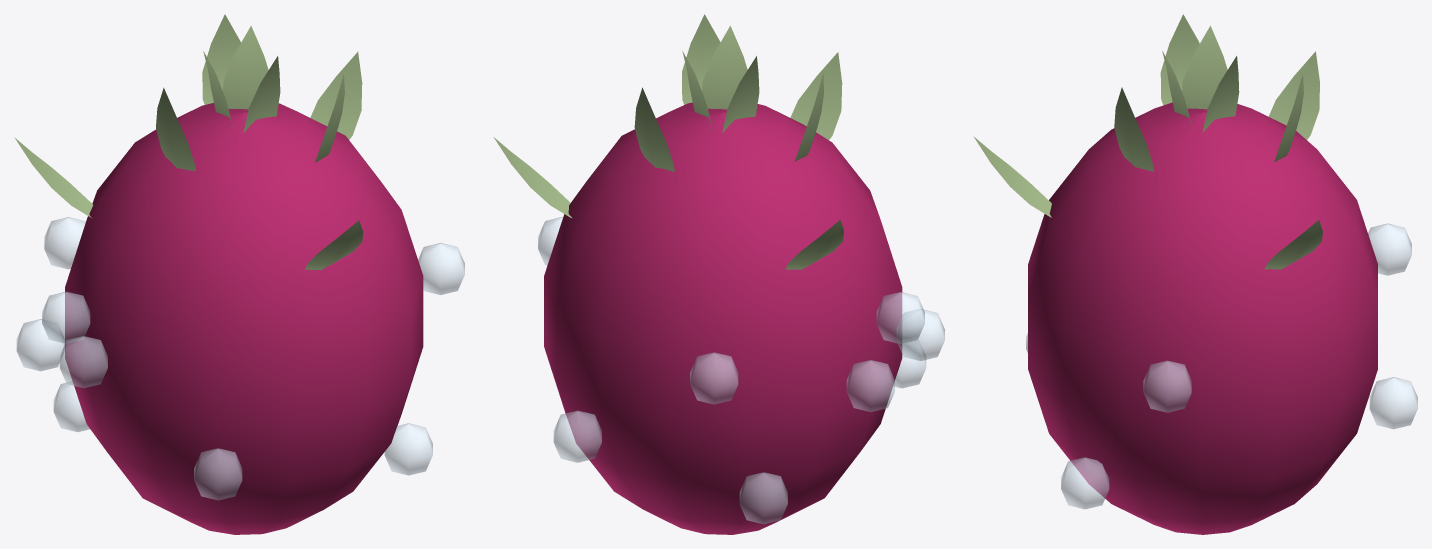
Rendered from fruit-dragon-wet.gltf.
The picture shows the model from 3 angles, left to right: view 1: azimuth 30°, elevation 25°; view 2: azimuth 150°, elevation 25°; view 3: azimuth 270°, elevation 25°; orthographic projection.
Size of the model in its own units: 0.5243 by 0.5892 by 0.4977.
